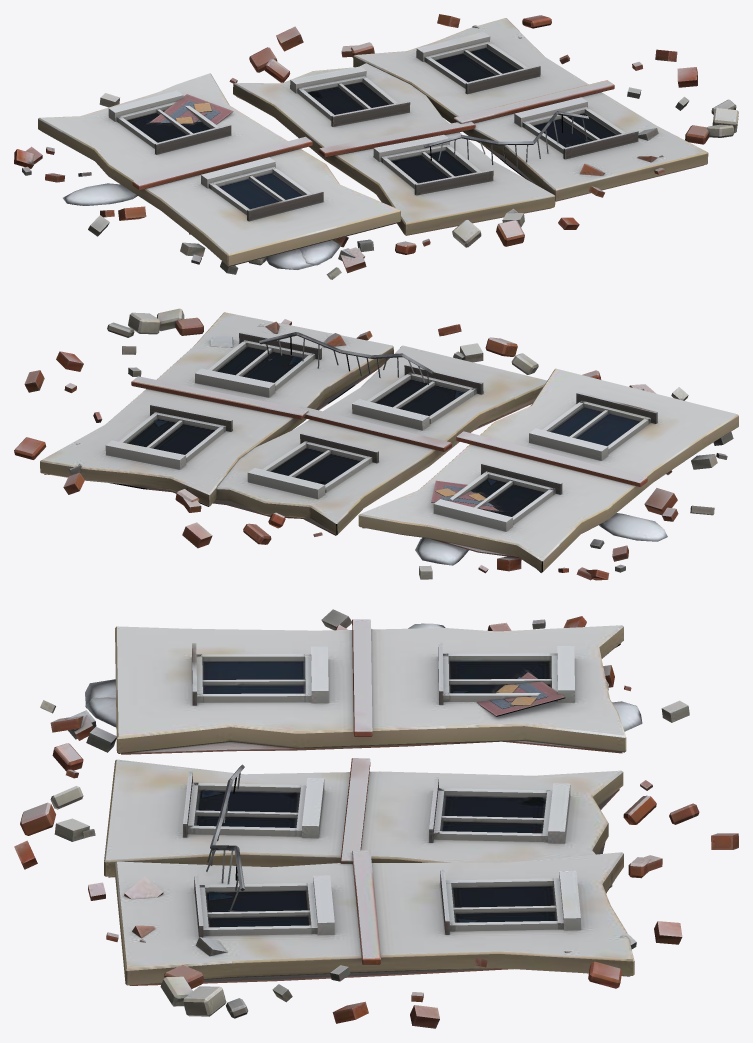
Rendered from bld_facade_fallen.glb.
3 renders of one model, top to bottom at view 1: azimuth 30°, elevation 25°; view 2: azimuth 150°, elevation 25°; view 3: azimuth 270°, elevation 25°, orthographic. The views are drawn at different scales.
Visible parts, largest first — view 1: bld_facade_fallen; view 2: bld_facade_fallen; view 3: bld_facade_fallen.
Boxes of the visible parts, x1,y1,x2,y2 form: bld_facade_fallen: (14, 14, 738, 279); bld_facade_fallen: (14, 308, 738, 580); bld_facade_fallen: (14, 609, 738, 1028).
Size of the model in its own units: 11.36 by 0.935 by 8.53.
1 material, 1 textured.
